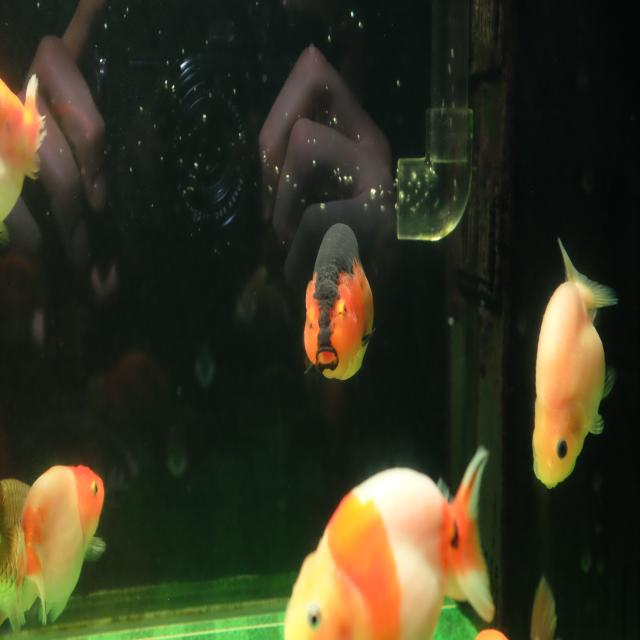Tilapia: (282, 442, 495, 639), (530, 237, 620, 492), (14, 463, 107, 629), (301, 220, 377, 392), (0, 68, 48, 227)
